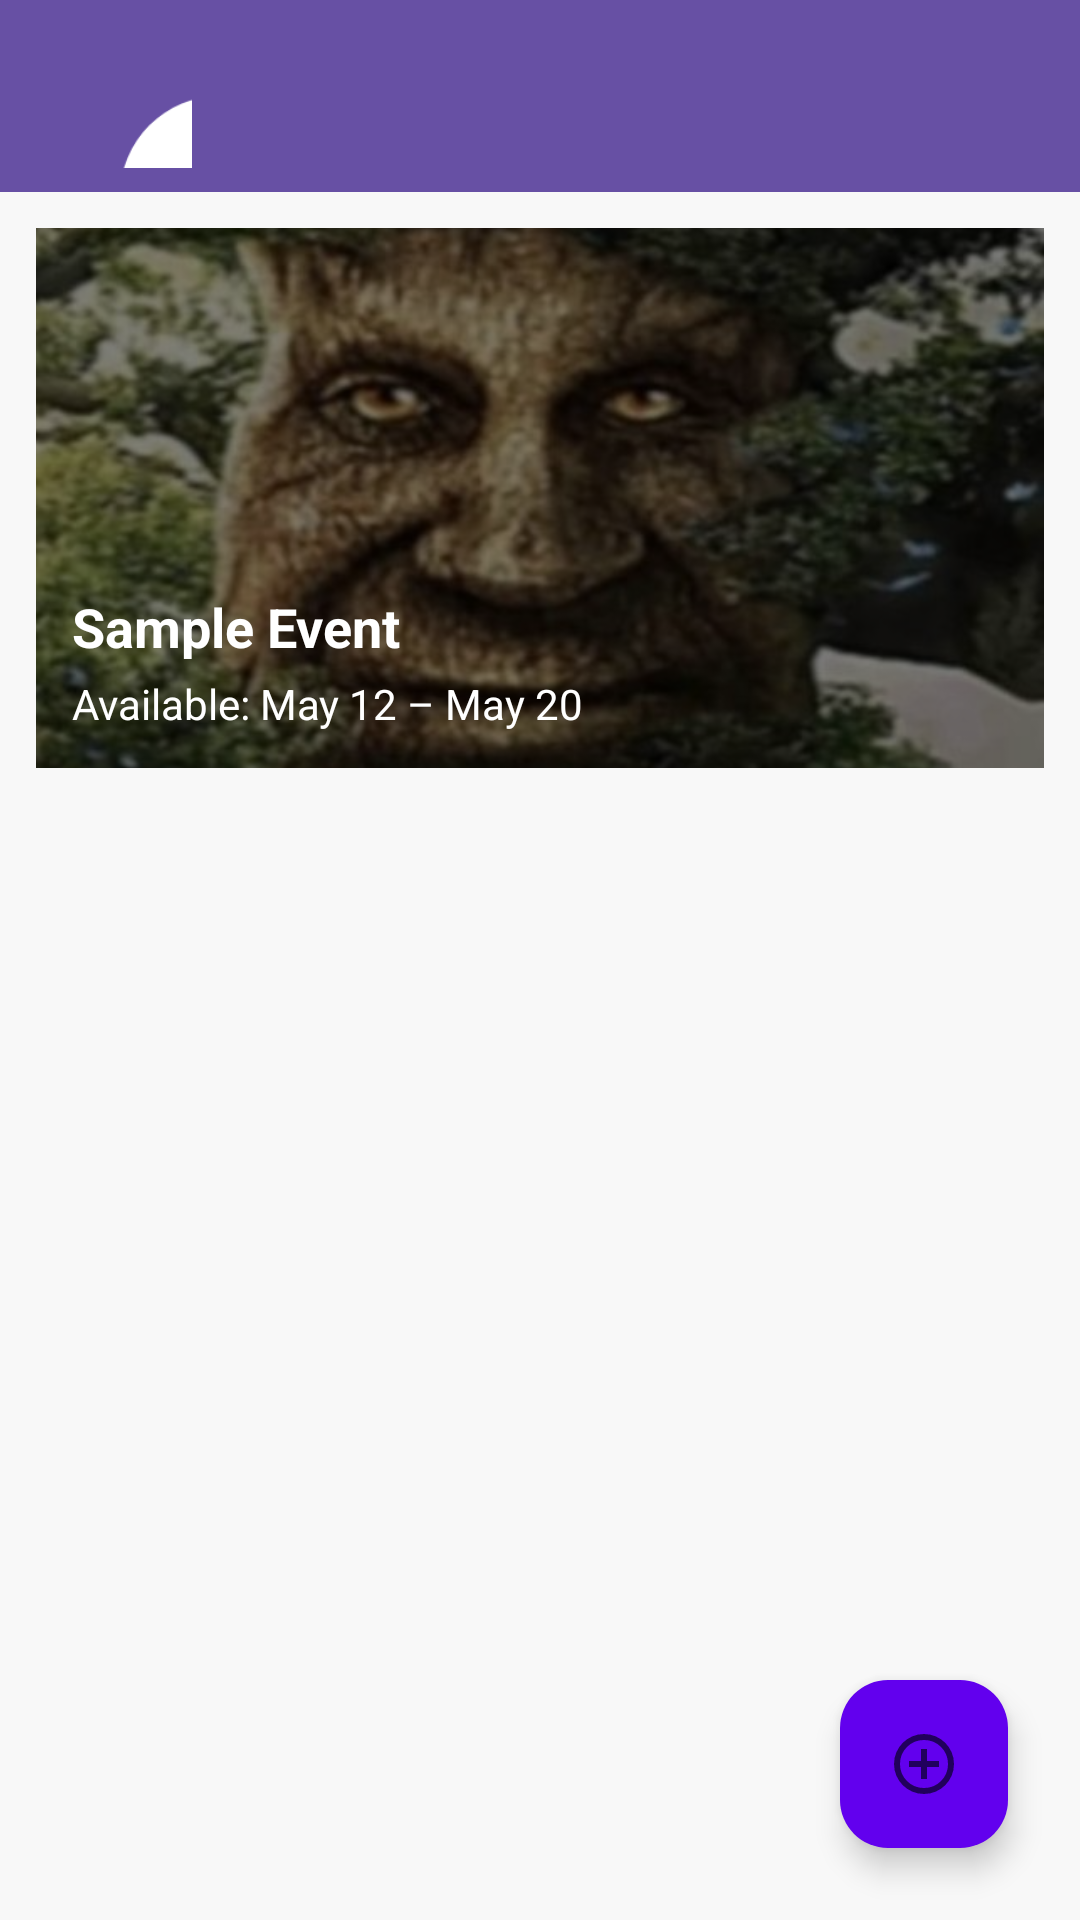

Icons on this 1080px x 1920px Android screen, each with the point to tap as [x,y]:
Add Event: [924,1764]
